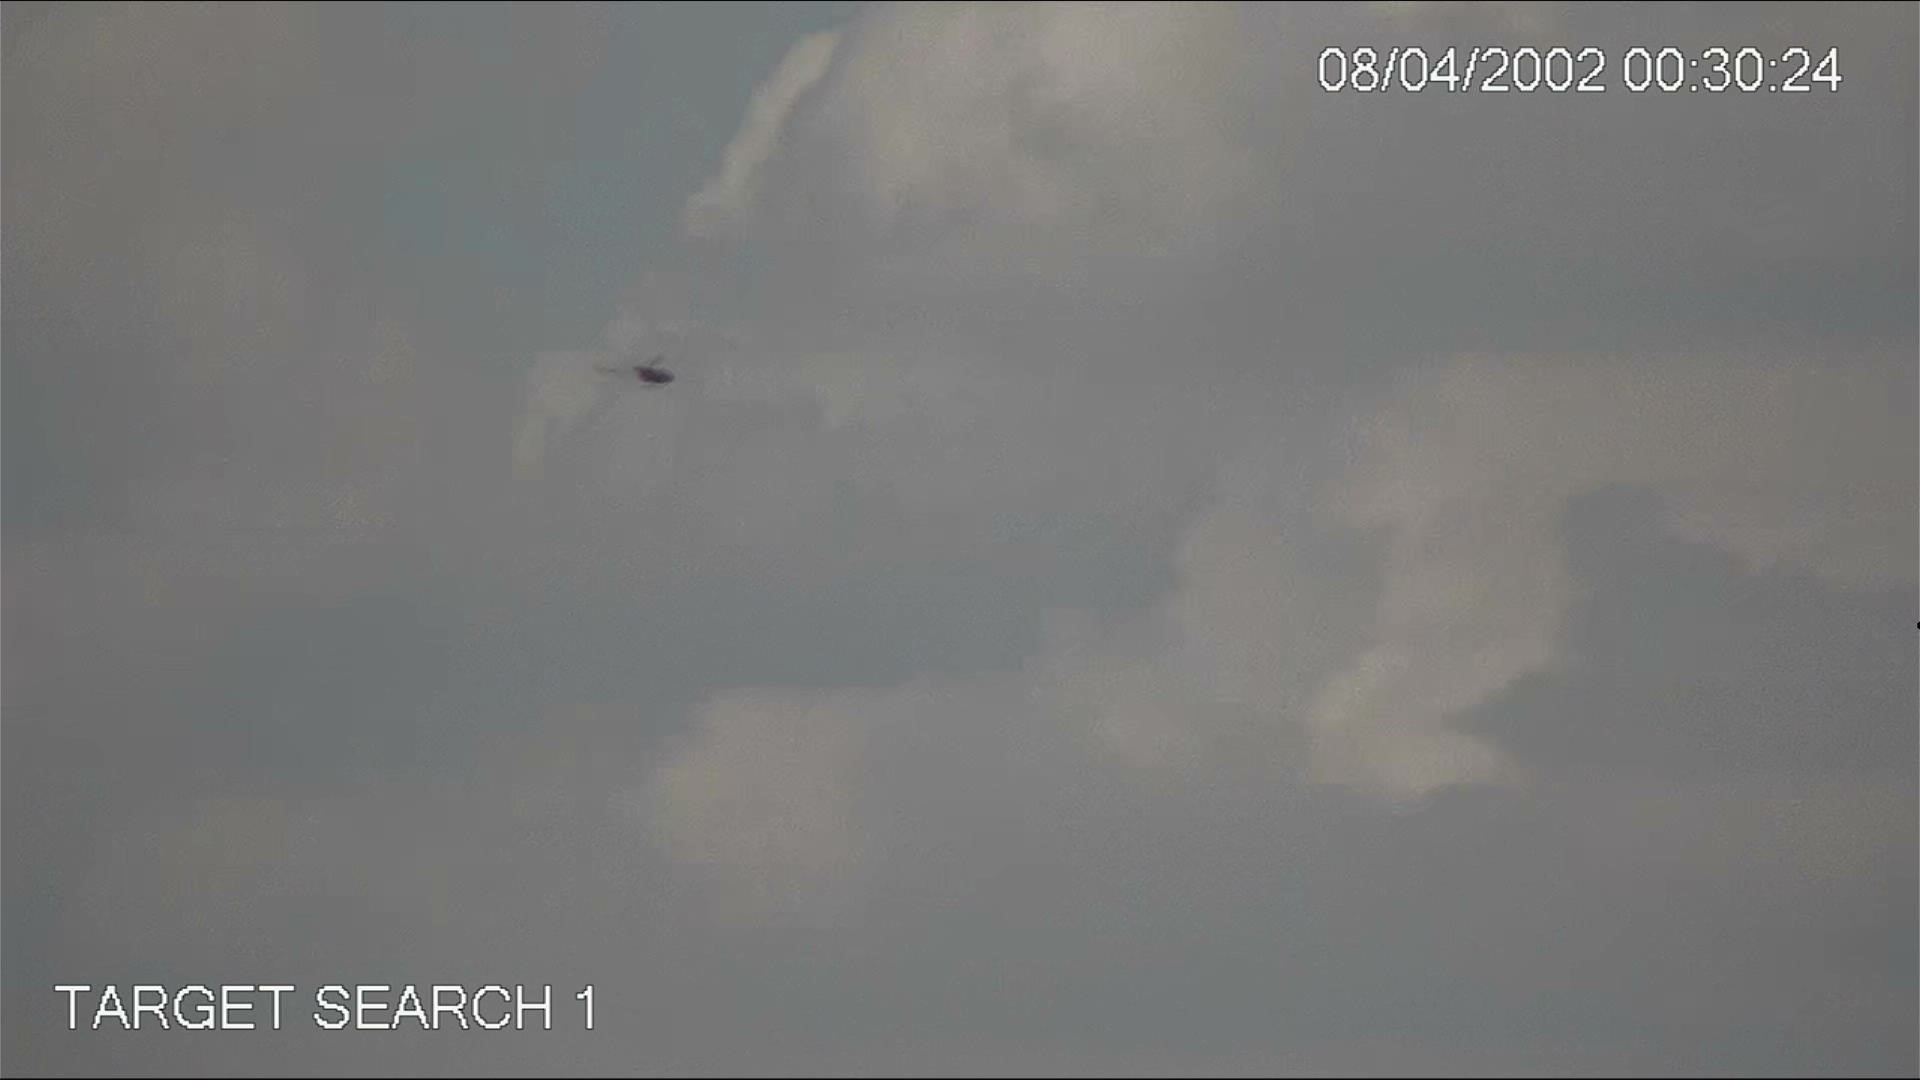SU_30: (591, 351, 678, 386)
